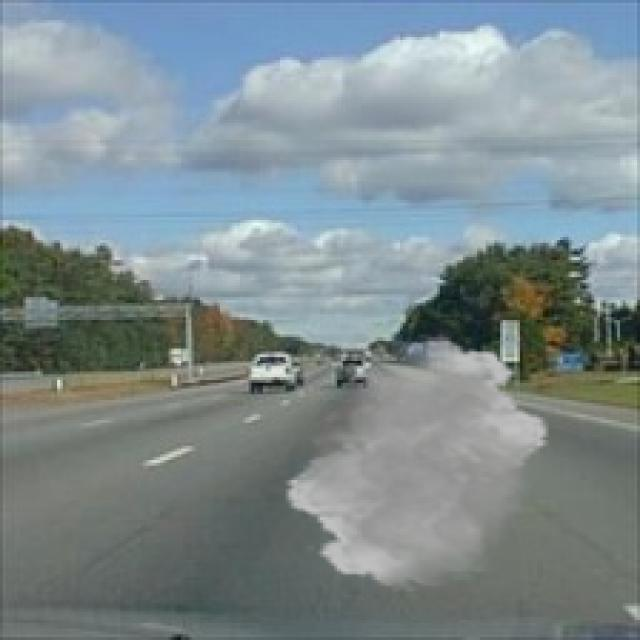Smoke: (283, 334, 552, 592)
